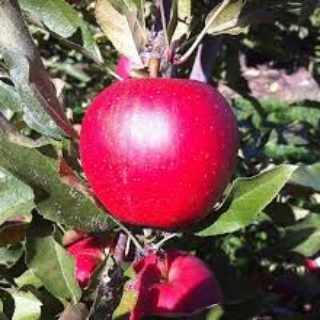tao: (77, 72, 241, 233)
